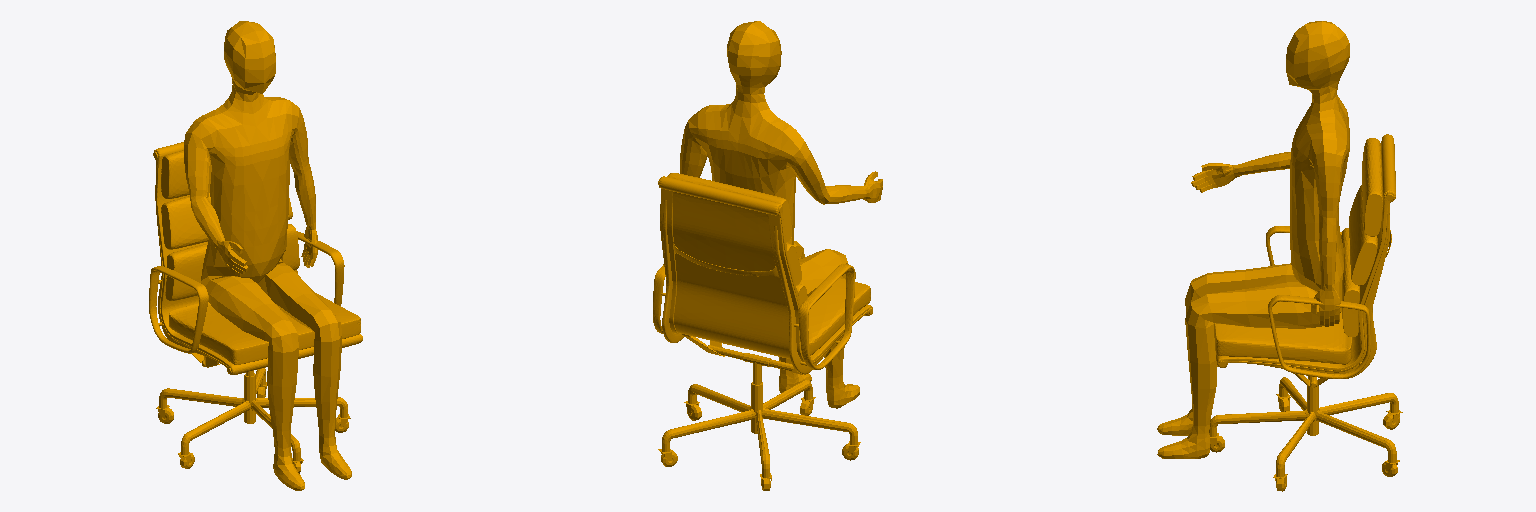
URDF robot description (person):
<?xml version="1.0"?>
<robot name="person">
    <link name="body">
        <visual>
            <geometry>
                <mesh filename="package://moman_moveit_config/config/Man_chair.stl"/>
            </geometry>
        </visual>
        <collision>
            <geometry>
                <mesh filename="package://moman_moveit_config/config/Man_chair.stl"/>
            </geometry>
        </collision>
        <inertial>
            <mass value="1.0"/>
            <origin rpy="0 0 0" xyz="0 0 0"/>
            <inertia ixx="10.0" ixy="0.0" ixz="0.0" iyy="10.0" iyz="0.0" izz="10.0"/>
        </inertial>
    </link>
</robot>

--- Facts derived from the render (not from the file) ---
3 views of the same robot in one strip: view 1: azimuth 30°, elevation 25°; view 2: azimuth 150°, elevation 25°; view 3: azimuth 270°, elevation 25° (orthographic).
Robot: person — 1 links, 0 joints (none); root link body; default pose: every joint at zero.
Links seen in each view (by area): view 1: body; view 2: body; view 3: body.
Link boxes in pixels (box(x1,y1,x2,y2)): body: box(149, 21, 362, 490); body: box(653, 21, 882, 490); body: box(1157, 21, 1402, 491).
Size in the robot's own frame: 0.6169 by 0.7409 by 1.44 metres.
1 mesh visuals loaded from 1 distinct referenced files (1 binary STL).
